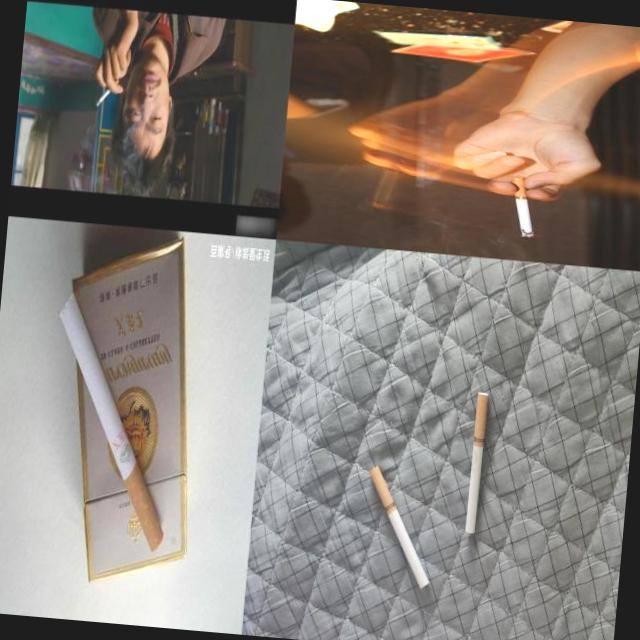cigarette: (40, 292, 184, 553), (446, 101, 610, 246), (359, 464, 439, 589), (94, 4, 146, 112), (464, 389, 489, 534)
